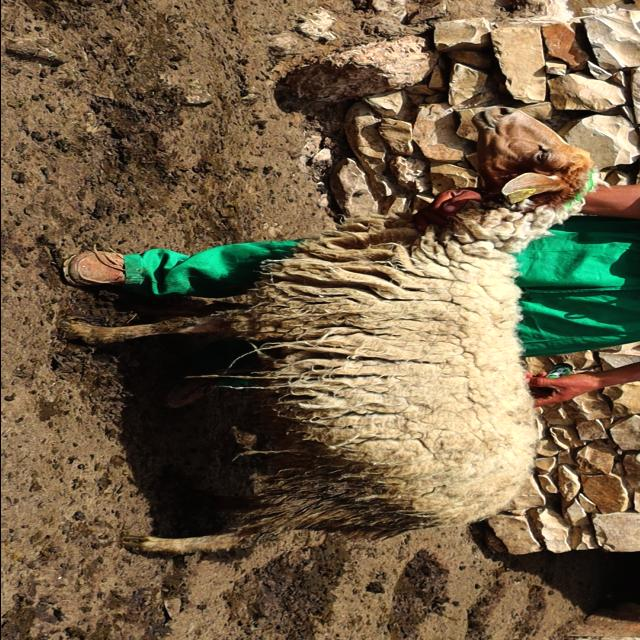Score_2: (66, 107, 593, 555)
